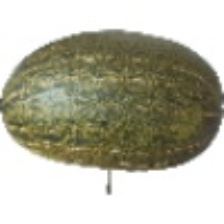honeydew: (50, 44, 196, 187)
